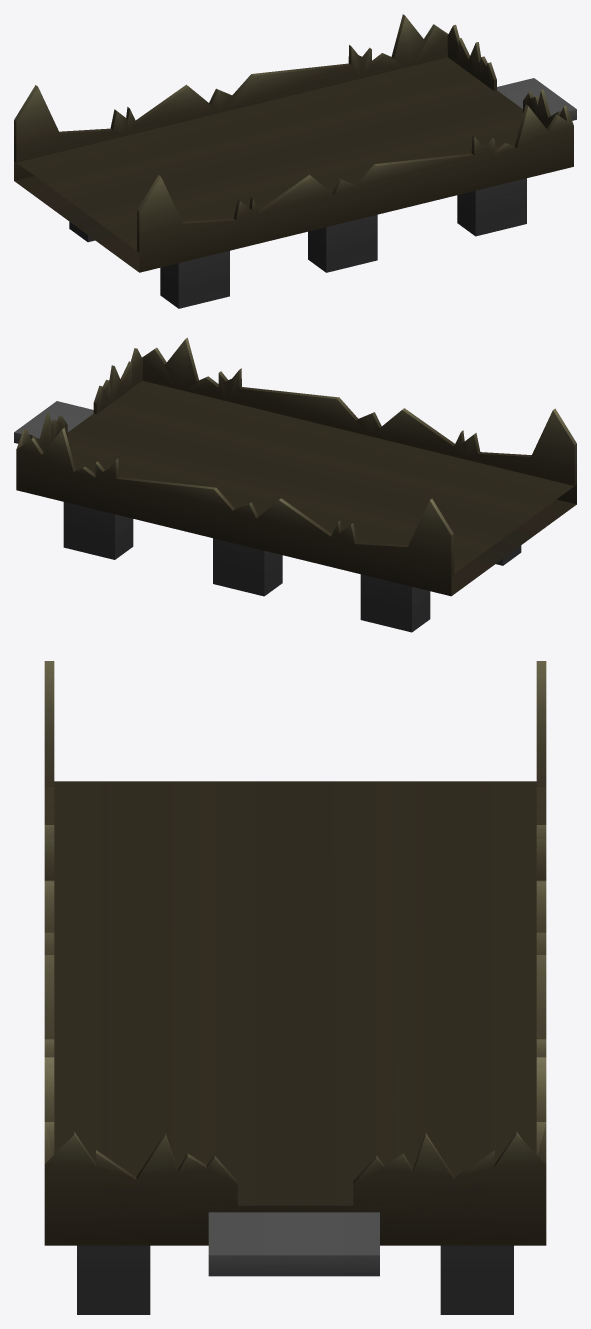
The model's file is train_half_destroyed_placeholder_v001.fbx.
The picture shows the model from 3 angles, top to bottom: view 1: azimuth 30°, elevation 25°; view 2: azimuth 150°, elevation 25°; view 3: azimuth 270°, elevation 25°; orthographic projection. The views are drawn at different scales.
Parts seen in each view (by area): view 1: broken, übergang; view 2: broken, übergang; view 3: broken, übergang.
Boxes of the visible parts, x1,y1,x2,y2 form: broken: (14,14,573,308); übergang: (497,78,576,120); broken: (16,337,576,632); übergang: (14,401,93,443); broken: (44,661,546,1314); übergang: (208,1212,379,1276).
Size of the model in its own units: 300 by 190 by 661.
